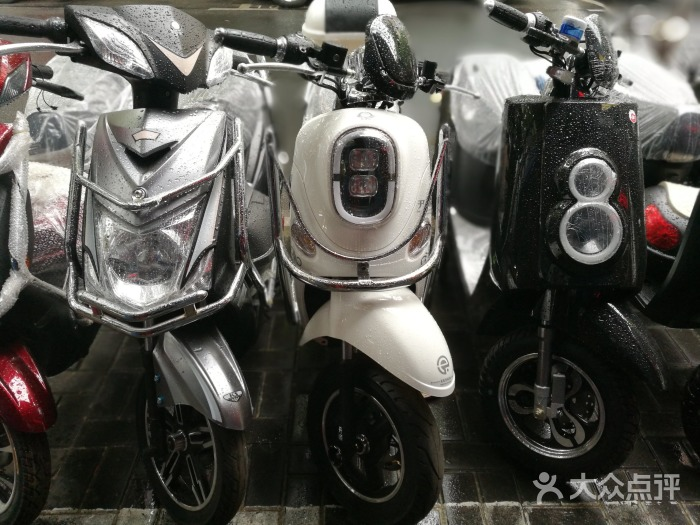电动车: (214, 4, 480, 524), (1, 1, 247, 518), (450, 1, 700, 496)
